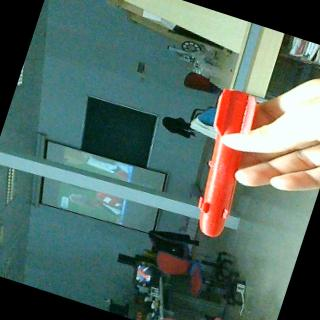Rocket: (174, 82, 268, 240)
